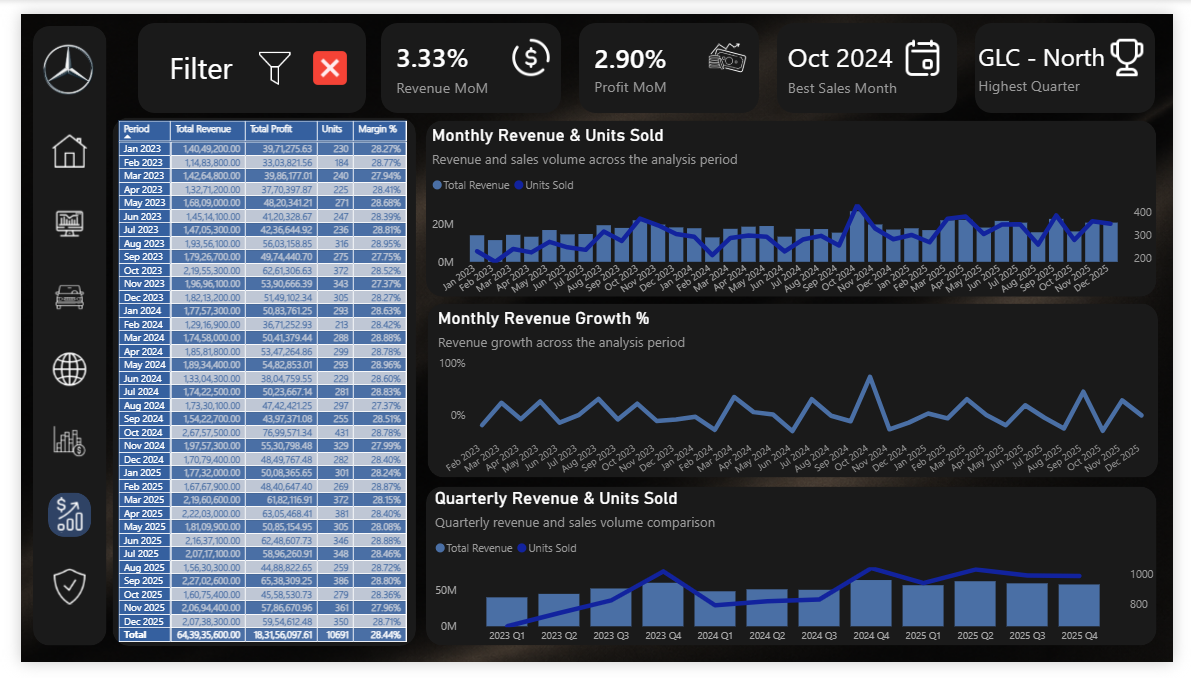

The page's visual inventory and layout, read from the dashboard file:
{"tool":"powerbi","page":{"name":"Home Page","canvas":[1280,720],"ordinal":0},"visuals":[{"type":"image","box":[0,8,86,68],"z":0},{"type":"textbox","box":[1154,18,126,38],"z":1000},{"type":"image","box":[1104,18,46,38],"z":2000},{"type":"textbox","box":[84,22,180,46],"z":3000},{"type":"textbox","box":[15.6,106.2,271.9,39.1],"z":4000},{"type":"textbox","box":[15.6,150,428.1,168.8],"z":5000},{"type":"shape","box":[21.9,309.4,134.4,12.5],"z":6000},{"type":"textbox","box":[15.6,321.9,375,76.6],"z":7000},{"type":"group","id":"g1","title":"Group 1","box":[12.5,412.5,146.9,110.9],"z":8000},{"type":"shape","box":[178.1,415.6,146.9,100],"z":8000,"group":"g5"},{"type":"shape","box":[346.9,415.6,146.9,100],"z":8000,"group":"g4"},{"type":"shape","box":[10.9,541.1,146.9,100],"z":8000,"group":"g2"},{"type":"image","box":[178.1,412.5,68.8,60.9],"z":9000,"group":"g5"},{"type":"group","id":"g2","title":"Group 2","box":[10.9,541.1,146.9,106.2],"z":9000},{"type":"textbox","box":[182.8,465.6,114.1,57.8],"z":10000,"group":"g5"},{"type":"group","id":"g3","title":"Group 3","box":[178.1,540.6,146.9,106.2],"z":10000},{"type":"shape","box":[347.4,540.6,146.9,100],"z":10000,"group":"g6"},{"type":"shape","box":[12.5,415.6,146.9,100],"z":11000,"group":"g1"},{"type":"image","box":[345.3,418.7,68.8,48.4],"z":11000,"group":"g4"},{"type":"textbox","box":[296.9,471.9,23.4,43.8],"z":11000,"group":"g5"},{"type":"group","id":"g4","title":"Group 5","box":[345.3,415.6,148.4,107.8],"z":12000},{"type":"textbox","box":[353.4,466,90.6,57.8],"z":12000,"group":"g4"},{"type":"shape","box":[178.1,540.6,146.9,100],"z":12000,"group":"g3"},{"type":"group","id":"g5","title":"Group 6","box":[178.1,412.5,146.9,110.9],"z":13000},{"type":"image","box":[344.8,544.3,64.1,45.3],"z":13000,"group":"g6"},{"type":"image","box":[12.5,412.5,68.8,60.9],"z":14000,"group":"g1"},{"type":"textbox","box":[467.2,471.8,23.4,43.8],"z":14000,"group":"g4"},{"type":"textbox","box":[353.1,589,114.1,57.8],"z":14000,"group":"g6"},{"type":"image","box":[10.9,542.7,68.8,54.7],"z":17000,"group":"g2"},{"type":"textbox","box":[467.2,596.8,23.4,43.8],"z":18000,"group":"g6"},{"type":"group","id":"g6","title":"Group 4","box":[344.8,540.6,149.5,106.2],"z":18001},{"type":"image","box":[178.1,543.7,60.9,45.3],"z":19000,"group":"g3"},{"type":"textbox","box":[21.9,465.6,90.6,57.8],"z":20000,"group":"g1"},{"type":"textbox","box":[20.3,589.5,90.6,57.8],"z":22000,"group":"g2"},{"type":"textbox","box":[182.8,589,103.1,57.8],"z":24000,"group":"g3"},{"type":"textbox","box":[126.5,597.3,23.4,43.8],"z":26000,"group":"g2"},{"type":"textbox","box":[296.9,596.8,23.4,43.8],"z":28000,"group":"g3"},{"type":"textbox","box":[132.8,473.4,23.4,43.8],"z":31000,"group":"g1"}]}

Visuals, with their boxes in screenshot pixels (x1, y1, x2, y2), scaled from the page's 1280x720 canvas onto the 1191x678 screenshot:
image: x1=0, y1=8, x2=80, y2=72
textbox: x1=1074, y1=17, x2=1190, y2=53
image: x1=1027, y1=17, x2=1070, y2=53
textbox: x1=78, y1=21, x2=246, y2=64
textbox: x1=15, y1=100, x2=268, y2=137
textbox: x1=15, y1=141, x2=413, y2=300
shape: x1=20, y1=291, x2=145, y2=303
textbox: x1=15, y1=303, x2=363, y2=375
"Group 1" group: x1=12, y1=388, x2=148, y2=493
shape: x1=166, y1=391, x2=302, y2=486
shape: x1=323, y1=391, x2=459, y2=486
shape: x1=10, y1=510, x2=147, y2=604
image: x1=166, y1=388, x2=230, y2=446
"Group 2" group: x1=10, y1=510, x2=147, y2=610
textbox: x1=170, y1=438, x2=276, y2=493
"Group 3" group: x1=166, y1=509, x2=302, y2=609
shape: x1=323, y1=509, x2=460, y2=603
shape: x1=12, y1=391, x2=148, y2=486
image: x1=321, y1=394, x2=385, y2=440
textbox: x1=276, y1=444, x2=298, y2=486
"Group 5" group: x1=321, y1=391, x2=459, y2=493
textbox: x1=329, y1=439, x2=413, y2=493
shape: x1=166, y1=509, x2=302, y2=603
"Group 6" group: x1=166, y1=388, x2=302, y2=493
image: x1=321, y1=513, x2=380, y2=555
image: x1=12, y1=388, x2=76, y2=446
textbox: x1=435, y1=444, x2=456, y2=486
textbox: x1=329, y1=555, x2=435, y2=609
image: x1=10, y1=511, x2=74, y2=563
textbox: x1=435, y1=562, x2=456, y2=603
"Group 4" group: x1=321, y1=509, x2=460, y2=609
image: x1=166, y1=512, x2=222, y2=555
textbox: x1=20, y1=438, x2=105, y2=493
textbox: x1=19, y1=555, x2=103, y2=610
textbox: x1=170, y1=555, x2=266, y2=609
textbox: x1=118, y1=562, x2=139, y2=604
textbox: x1=276, y1=562, x2=298, y2=603
textbox: x1=124, y1=446, x2=145, y2=487
